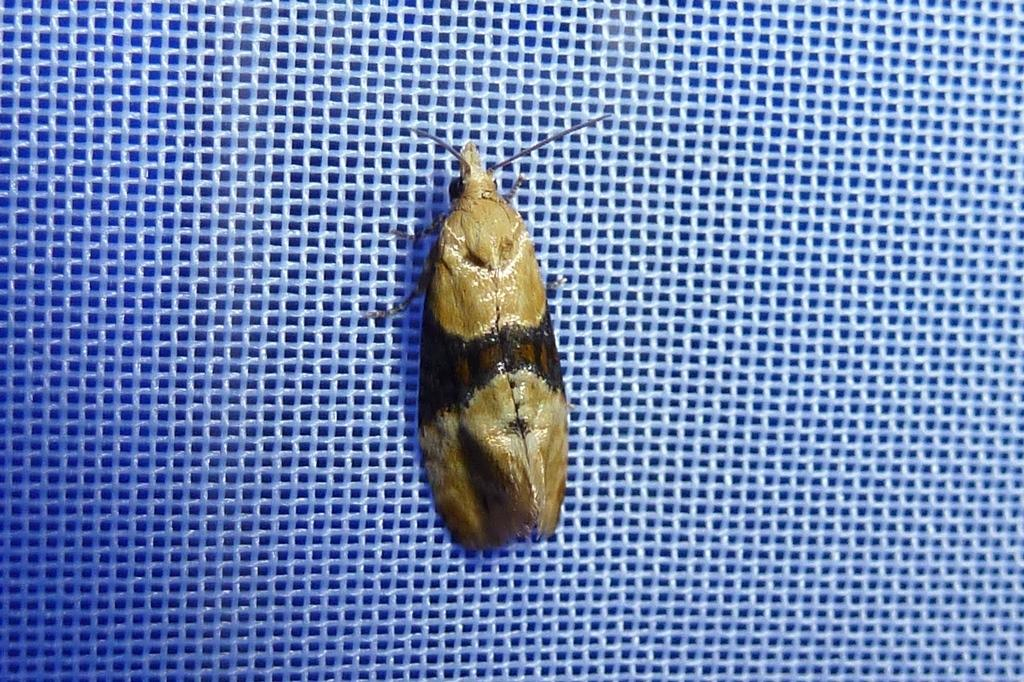Eupoecilia Ambiguella: (363, 109, 616, 553)
